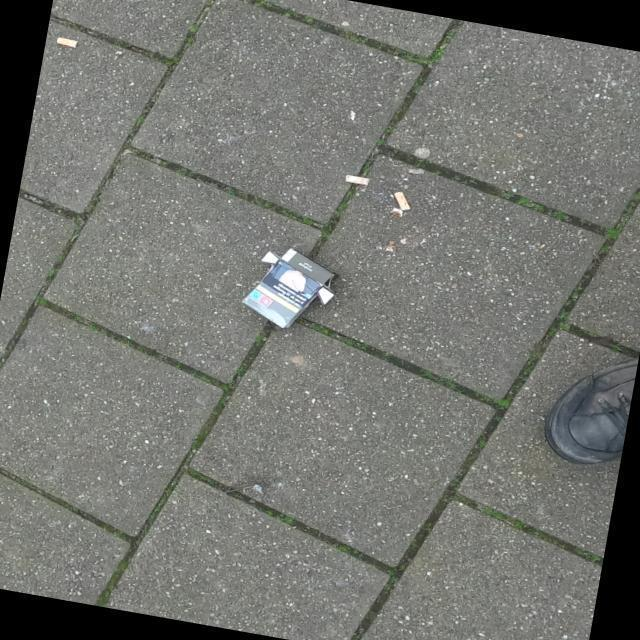Paper: (240, 246, 342, 340)
